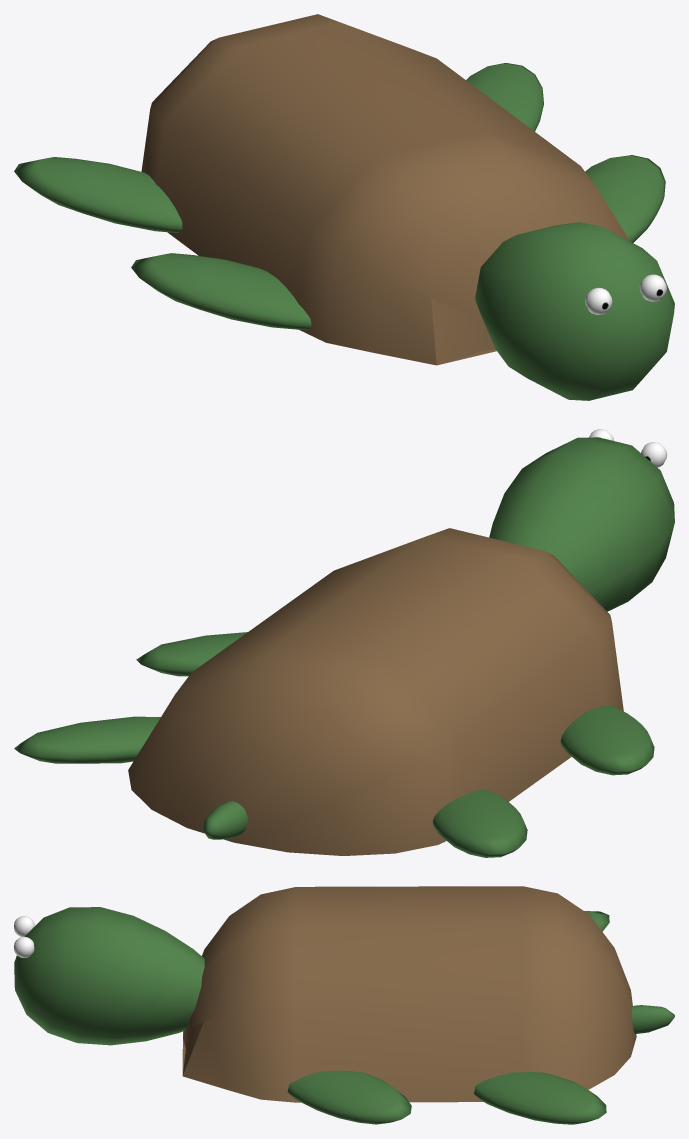
Rendered from turtle.obj.
The picture shows the model from 3 angles, top to bottom: view 1: azimuth 30°, elevation 25°; view 2: azimuth 150°, elevation 25°; view 3: azimuth 270°, elevation 25°; orthographic projection. The views are drawn at different scales.
Visible parts, largest first — view 1: 008_Capsule_-_baked, 002_Sphere_1, 005_Sphere, 006_Sphere, 003_Sphere, 004_Sphere, 000_Sphere_2, 001_Sphere_3; view 2: 008_Capsule_-_baked, 002_Sphere_1, 004_Sphere, 005_Sphere, 006_Sphere, 003_Sphere, 007_Sphere; view 3: 008_Capsule_-_baked, 002_Sphere_1, 004_Sphere, 003_Sphere, 007_Sphere.
Part boxes in pixels (left/top/right/bottom): 008_Capsule_-_baked: left=141, top=14, right=629, bottom=365; 002_Sphere_1: left=475, top=222, right=674, bottom=400; 005_Sphere: left=131, top=253, right=311, bottom=330; 006_Sphere: left=14, top=157, right=182, bottom=232; 003_Sphere: left=585, top=155, right=665, bottom=242; 004_Sphere: left=466, top=63, right=543, bottom=131; 000_Sphere_2: left=639, top=274, right=666, bottom=301; 001_Sphere_3: left=585, top=287, right=612, bottom=314; 008_Capsule_-_baked: left=128, top=528, right=623, bottom=855; 002_Sphere_1: left=489, top=437, right=674, bottom=611; 004_Sphere: left=14, top=716, right=160, bottom=763; 005_Sphere: left=560, top=705, right=654, bottom=775; 006_Sphere: left=432, top=790, right=527, bottom=857; 003_Sphere: left=136, top=632, right=247, bottom=676; 007_Sphere: left=202, top=801, right=247, bottom=839; 008_Capsule_-_baked: left=182, top=886, right=636, bottom=1102; 002_Sphere_1: left=14, top=907, right=204, bottom=1045; 004_Sphere: left=474, top=1072, right=606, bottom=1124; 003_Sphere: left=287, top=1070, right=411, bottom=1124; 007_Sphere: left=631, top=1005, right=674, bottom=1033.
Bounding box in the file's own units: 207 × 60.23 × 291.
Materials: 9 (2 with a texture image).
